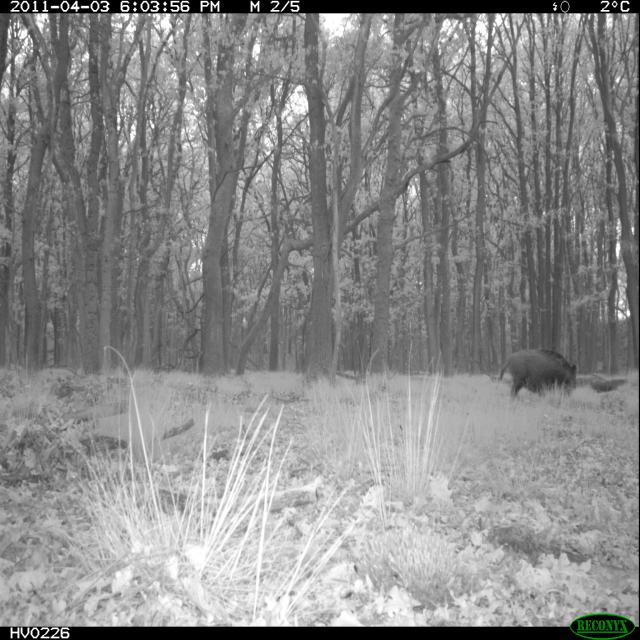boar: (485, 330, 592, 414)
